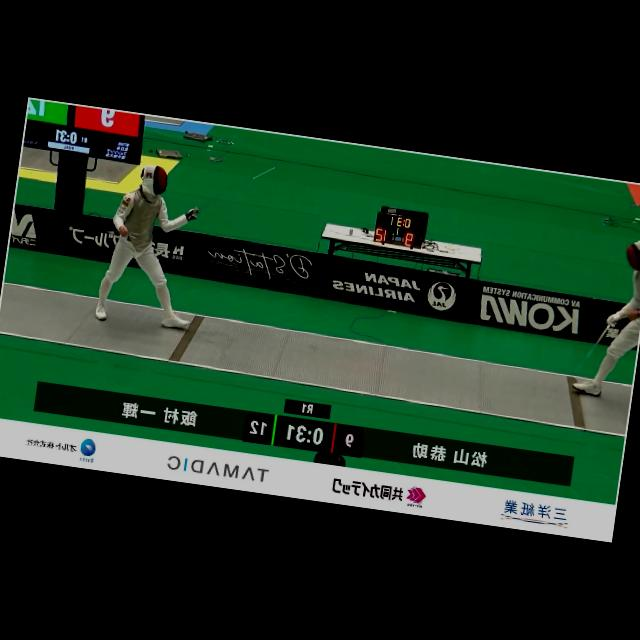blade: (188, 154, 278, 233), (570, 312, 619, 384)
